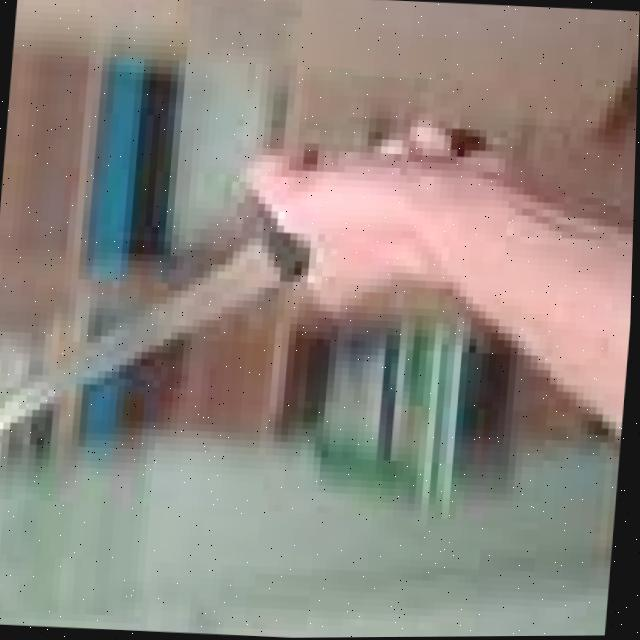knife: (0, 211, 313, 459)
